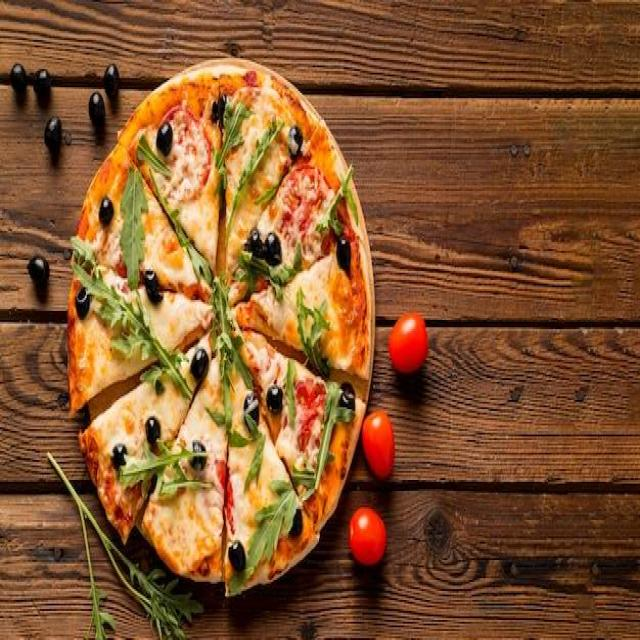basil: (70, 237, 193, 401), (229, 481, 301, 596), (205, 277, 253, 445), (224, 115, 284, 248), (148, 168, 213, 286), (293, 381, 353, 502), (120, 441, 208, 499), (120, 171, 149, 290), (296, 285, 330, 379), (315, 164, 358, 237), (212, 103, 250, 175), (138, 134, 172, 180), (244, 434, 266, 494), (160, 480, 215, 499), (282, 360, 296, 431), (254, 185, 280, 206)
olive: (247, 229, 281, 266), (27, 256, 49, 284), (244, 393, 260, 430), (104, 64, 120, 100), (156, 122, 173, 155), (191, 349, 208, 382), (44, 115, 62, 146), (228, 540, 246, 571), (144, 270, 160, 304), (34, 68, 51, 99), (89, 92, 105, 124), (10, 64, 27, 94), (336, 235, 351, 269), (190, 442, 207, 470), (266, 385, 282, 414), (288, 126, 302, 159), (99, 196, 113, 226), (212, 96, 226, 126), (76, 287, 89, 318), (289, 508, 302, 539), (146, 417, 160, 444), (339, 390, 355, 413), (113, 444, 127, 470)
pizza: (69, 54, 375, 599)
